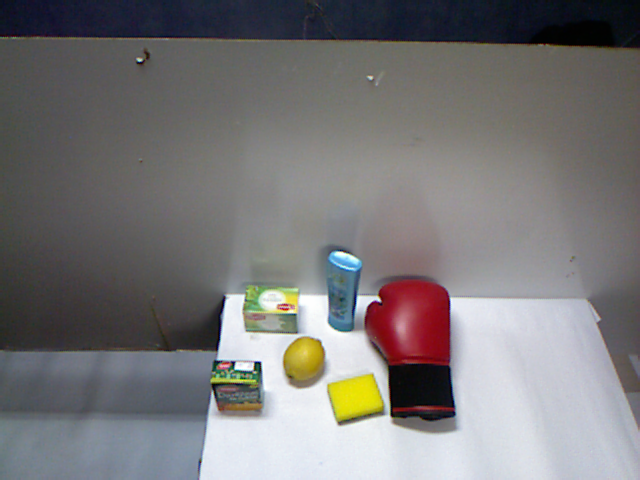cloro: (227, 250, 296, 346)
jugoind: (327, 330, 366, 394)
limon: (269, 365, 322, 423)
linterna: (207, 357, 288, 414)
papas: (296, 245, 354, 357)
platoperro: (374, 319, 496, 422)
